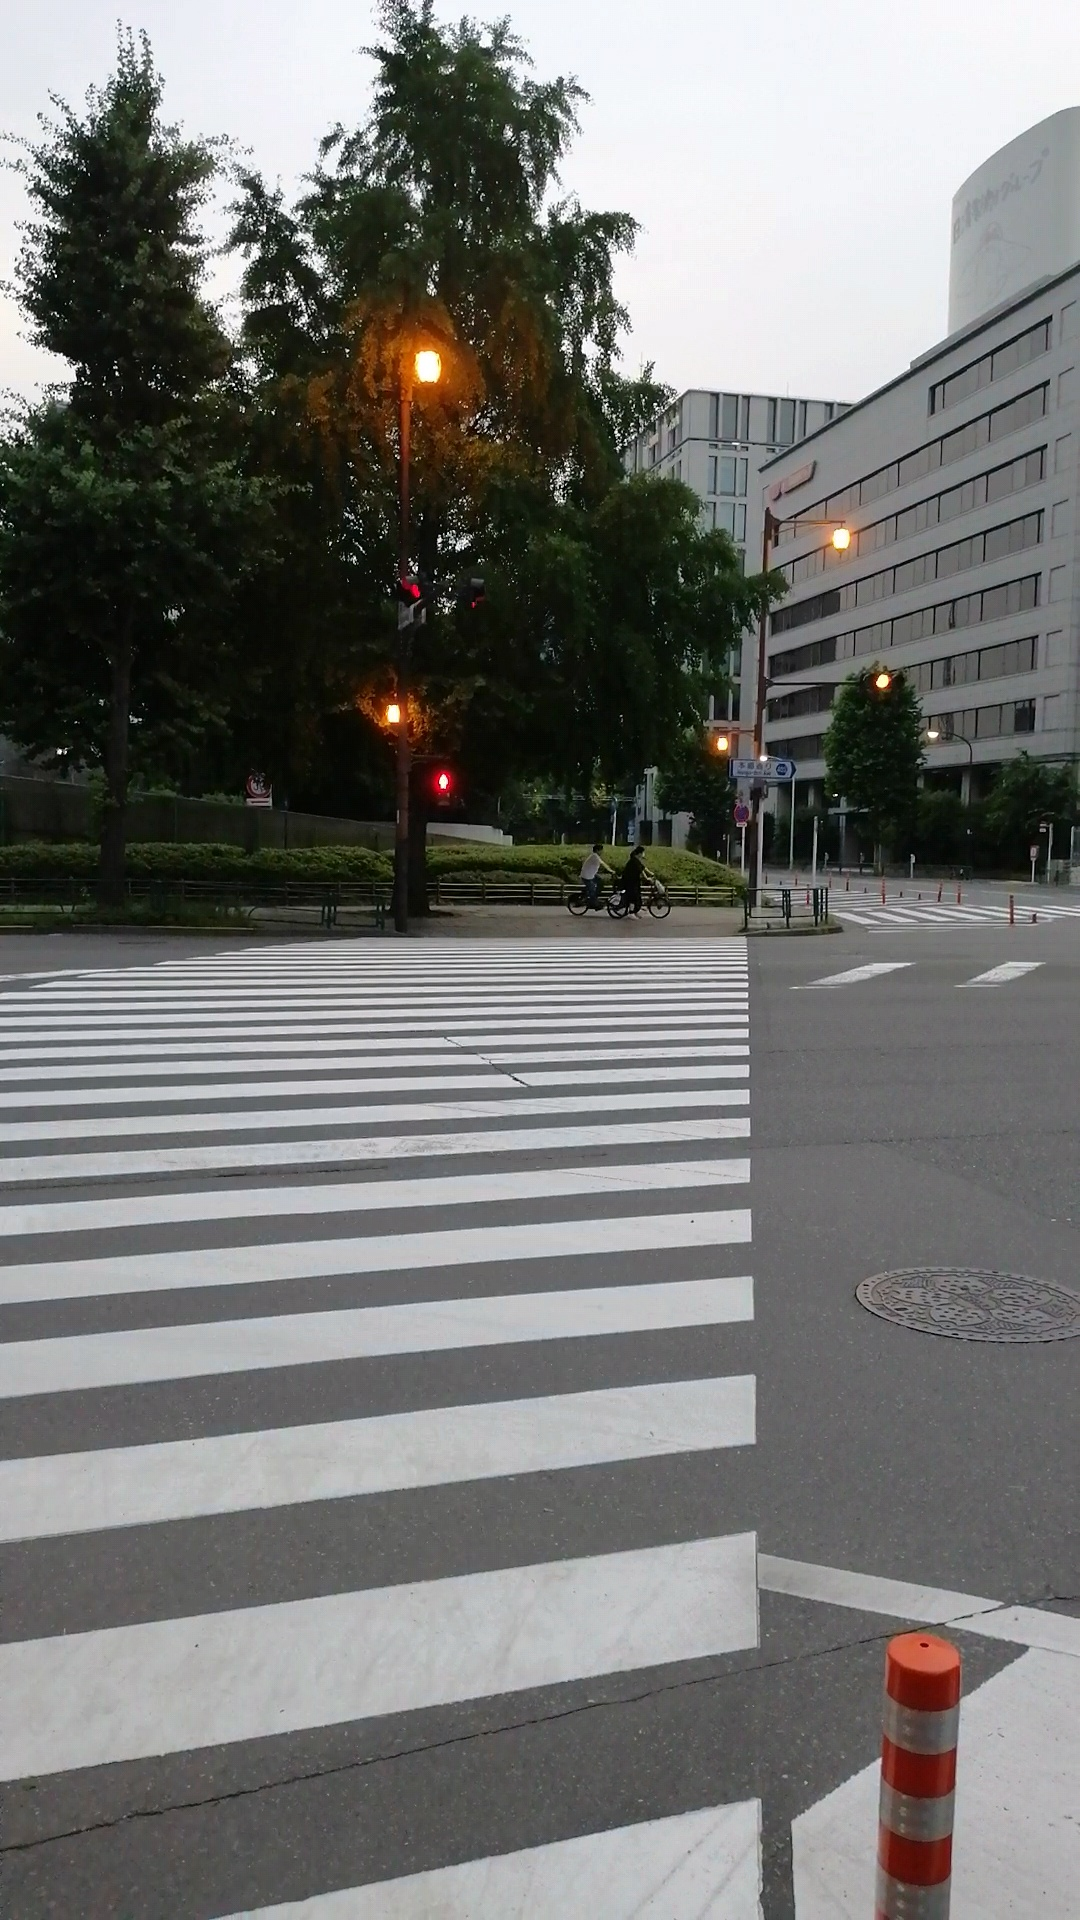red: (433, 767, 455, 807)
